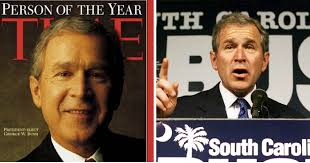No-Glasses: (46, 60, 117, 88), (215, 37, 260, 53)
